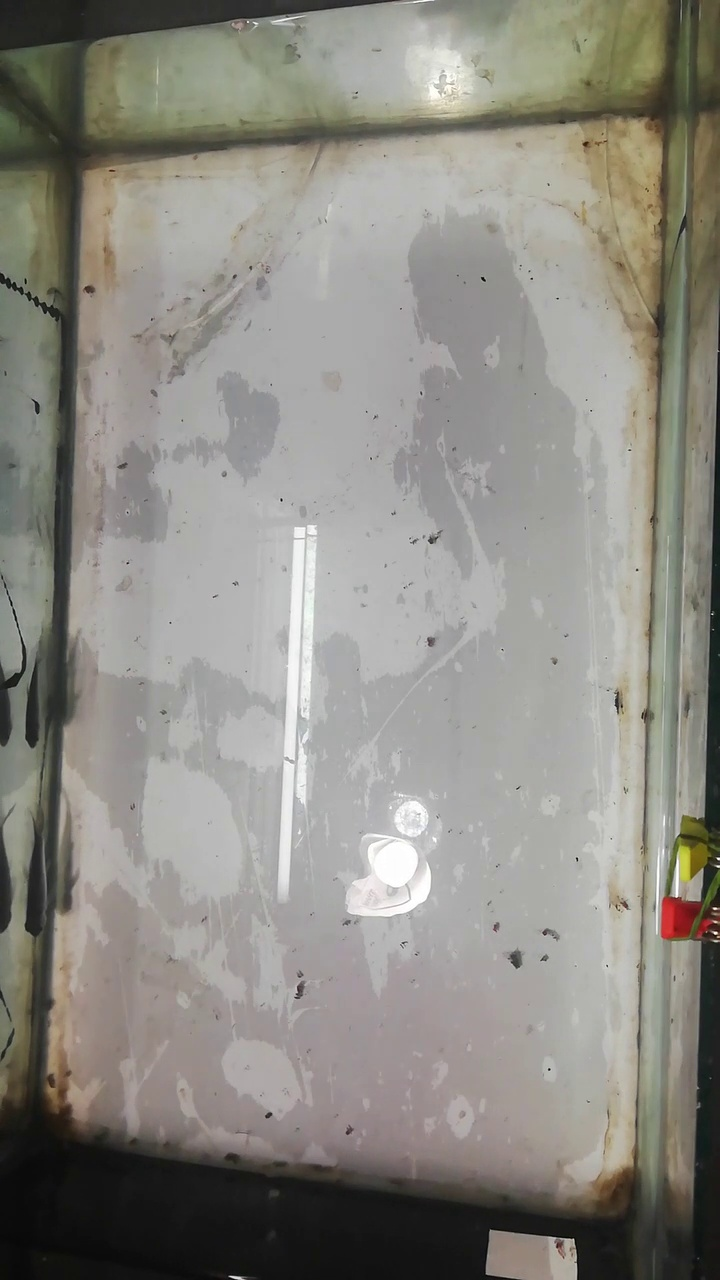fish1: (22, 810, 55, 940)
fish2: (23, 647, 47, 752)
